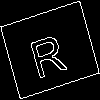R: (25, 25, 69, 80)
